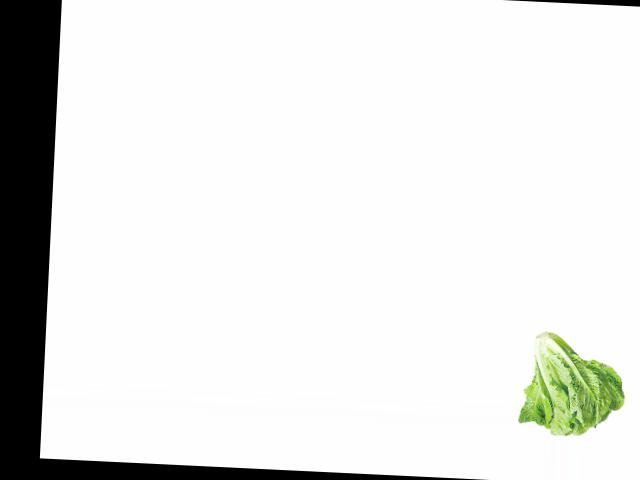lettuce: (519, 325, 629, 439)
